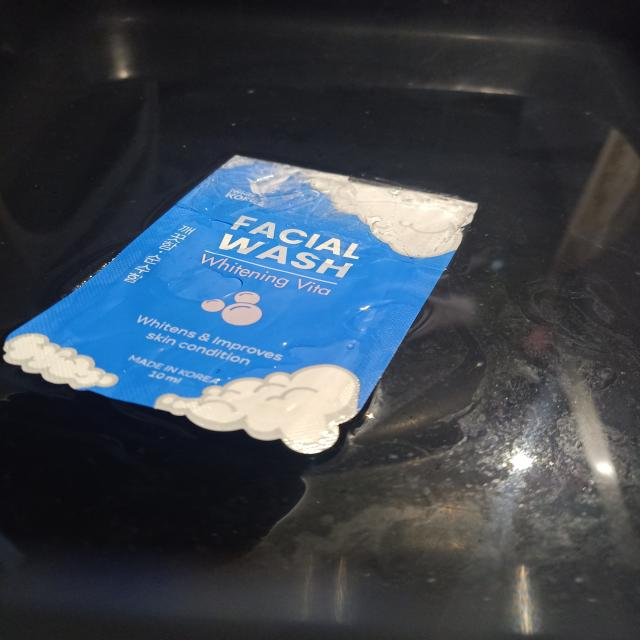Plastic Pouch: (5, 156, 476, 453)
